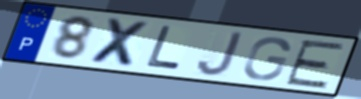8: (51, 14, 99, 61)
E: (282, 39, 348, 90)
G: (241, 36, 292, 82)
J: (195, 30, 245, 78)
L: (143, 24, 183, 72)
X: (87, 16, 154, 70)
